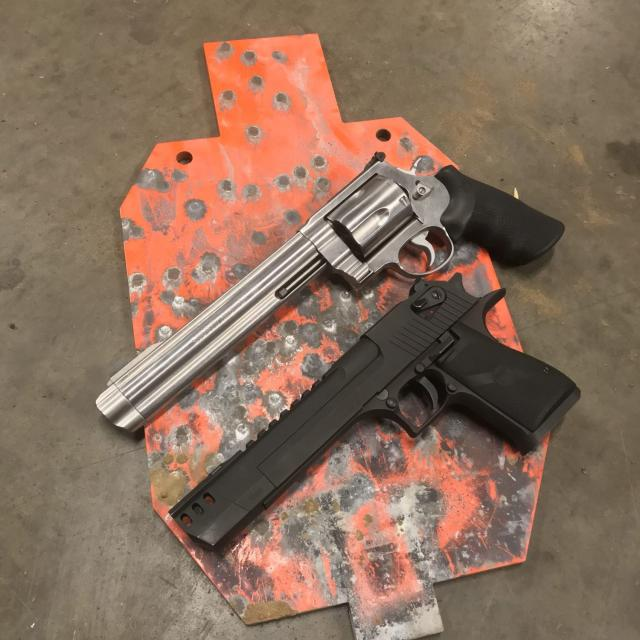HandGun: (95, 152, 564, 433), (170, 271, 580, 549)
